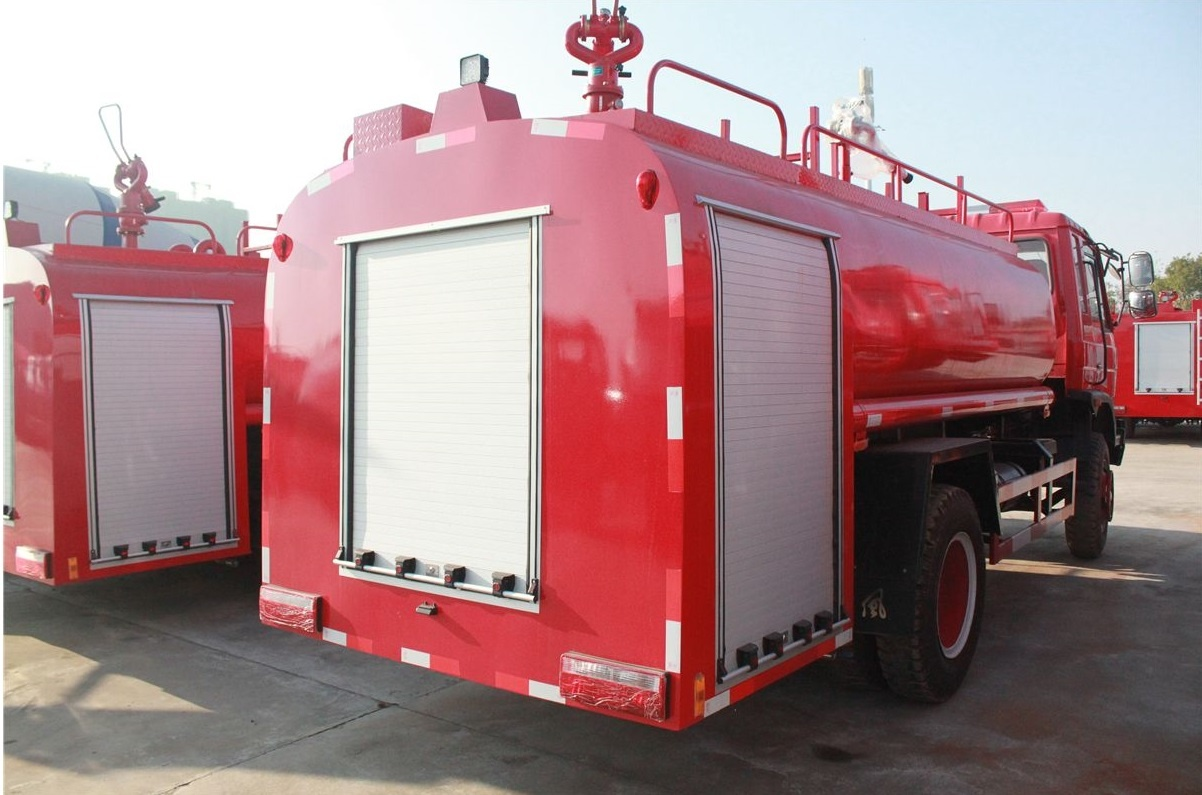fire engine: (265, 50, 1128, 749)
